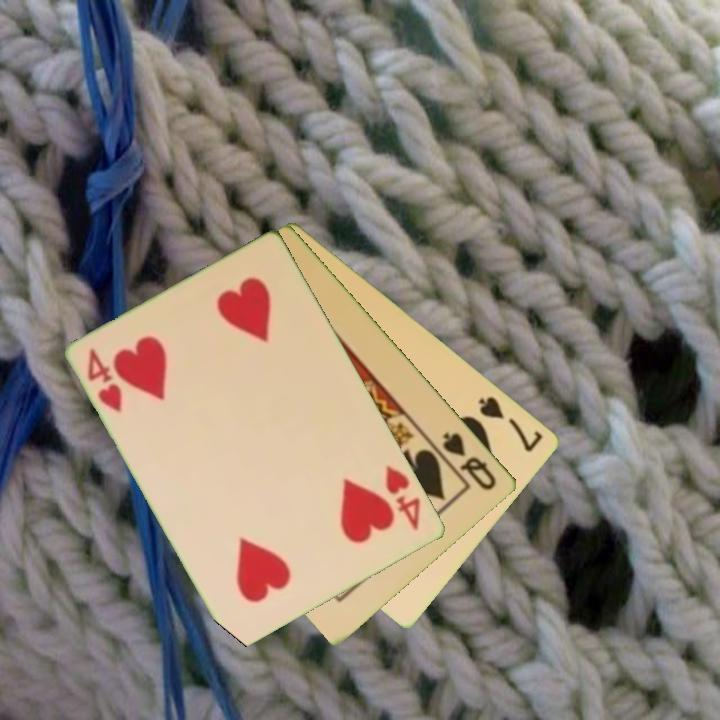4h: (382, 461, 424, 534), (84, 345, 126, 415)
7s: (475, 393, 546, 455)
Qs: (439, 428, 500, 494)
